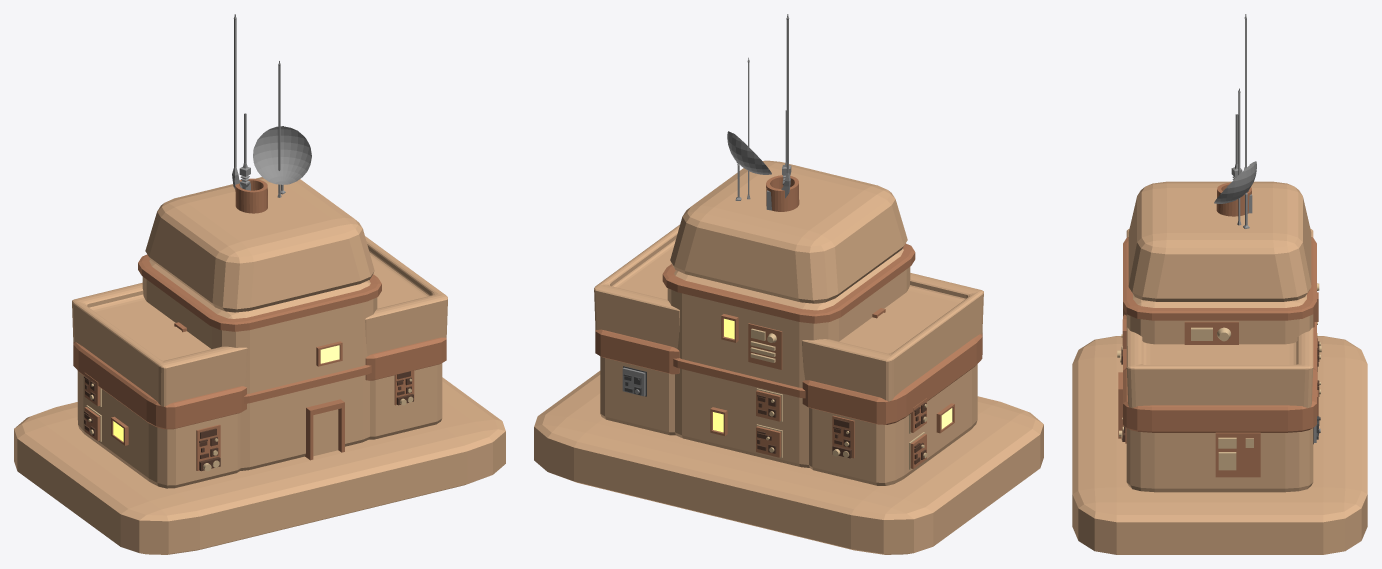
File: nomad_building_27.fbx
3 views of the same model, side by side, from view 1: azimuth 30°, elevation 25°; view 2: azimuth 150°, elevation 25°; view 3: azimuth 270°, elevation 25° (orthographic). The views are drawn at different scales.
Parts seen in each view (by area): view 1: B27_M_Foundation_rectangular, B27_M_R10_square_roof_defualt, B27_M_R02_roof_simple, B27_M_Blk10_base, B27_M_Blk02_rectangular_unit, B27_M_Blk00_base, B27_M_R01_roof_simple, B27_M_B02_Band_square_diameter_thich, B27_M_Blk01_rectangular_unit, B27_M_B10_Band_square_diameter_default, B27_M_Dish0_AntennaDish_Reflector, B27_M_B01_Band_square_diameter_thich (+5 smaller); view 2: B27_M_Foundation_rectangular, B27_M_R10_square_roof_defualt, B27_M_R02_roof_simple, B27_M_Blk10_base, B27_M_Blk02_rectangular_unit, B27_M_Blk00_base, B27_M_R01_roof_simple, B27_M_B02_Band_square_diameter_thich, B27_M_Blk01_rectangular_unit, B27_M_B10_Band_square_diameter_default, B27_M_B01_Band_square_diameter_thich, B27_M_B00_Band_square_diameter_default (+4 smaller); view 3: B27_M_Foundation_rectangular, B27_M_R10_square_roof_defualt, B27_M_R01_roof_simple, B27_M_Blk01_rectangular_unit, B27_M_B01_Band_square_diameter_thich, B27_M_Blk10_base, B27_M_B10_Band_square_diameter_default, B27_M_Panel0_PanelBox_Body, B27_M_Panel5_PanelBox_Body001, B27_M_Dish0_AntennaDish_Reflector, B27_M_Stack0_TowerBody_StackWide, B27_M_Mast0_AntennaMast_Offset.
Part boxes in pixels (box(x1,y1,x2,y2)): B27_M_Foundation_rectangular: box(14, 377, 505, 554); B27_M_R10_square_roof_defualt: box(145, 177, 374, 312); B27_M_R02_roof_simple: box(72, 282, 247, 406); B27_M_Blk10_base: box(142, 259, 377, 393); B27_M_Blk02_rectangular_unit: box(77, 371, 240, 488); B27_M_Blk00_base: box(240, 375, 369, 470); B27_M_R01_roof_simple: box(365, 236, 447, 356); B27_M_B02_Band_square_diameter_thich: box(73, 342, 246, 429); B27_M_Blk01_rectangular_unit: box(369, 363, 442, 439); B27_M_B10_Band_square_diameter_default: box(138, 254, 381, 331); B27_M_Dish0_AntennaDish_Reflector: box(253, 126, 311, 184); B27_M_B01_Band_square_diameter_thich: box(365, 337, 446, 380); B27_M_Foundation_rectangular: box(534, 371, 1043, 554); B27_M_R10_square_roof_defualt: box(670, 160, 907, 303); B27_M_R02_roof_simple: box(802, 273, 983, 401); B27_M_Blk10_base: box(667, 248, 910, 387); B27_M_Blk02_rectangular_unit: box(809, 364, 977, 485); B27_M_Blk00_base: box(675, 368, 809, 467); B27_M_R01_roof_simple: box(594, 224, 679, 348); B27_M_B02_Band_square_diameter_thich: box(802, 333, 982, 424); B27_M_Blk01_rectangular_unit: box(600, 356, 675, 435); B27_M_B10_Band_square_diameter_default: box(662, 243, 915, 323); B27_M_B01_Band_square_diameter_thich: box(595, 329, 679, 374); B27_M_B00_Band_square_diameter_default: box(673, 358, 805, 398); B27_M_Foundation_rectangular: box(1072, 336, 1367, 554); B27_M_R10_square_roof_defualt: box(1128, 181, 1311, 301); B27_M_R01_roof_simple: box(1126, 327, 1313, 407); B27_M_Blk01_rectangular_unit: box(1126, 428, 1313, 492); B27_M_B01_Band_square_diameter_thich: box(1123, 368, 1316, 432); B27_M_Blk10_base: box(1126, 294, 1313, 344); B27_M_B10_Band_square_diameter_default: box(1123, 237, 1316, 320); B27_M_Panel0_PanelBox_Body: box(1215, 432, 1260, 477); B27_M_Panel5_PanelBox_Body001: box(1184, 321, 1238, 344); B27_M_Dish0_AntennaDish_Reflector: box(1214, 161, 1256, 203); B27_M_Stack0_TowerBody_StackWide: box(1216, 182, 1251, 216); B27_M_Mast0_AntennaMast_Offset: box(1244, 14, 1252, 213).
Bounding box in the file's own units: 387 × 435 × 259.
